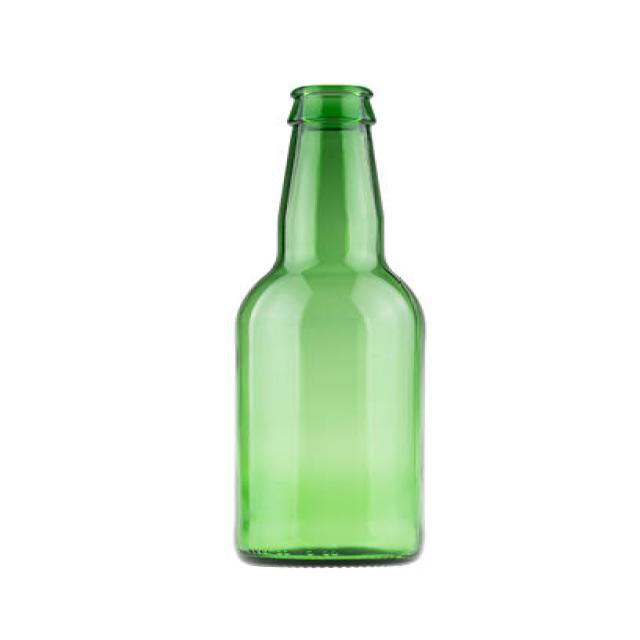electronic: (232, 86, 436, 572)
